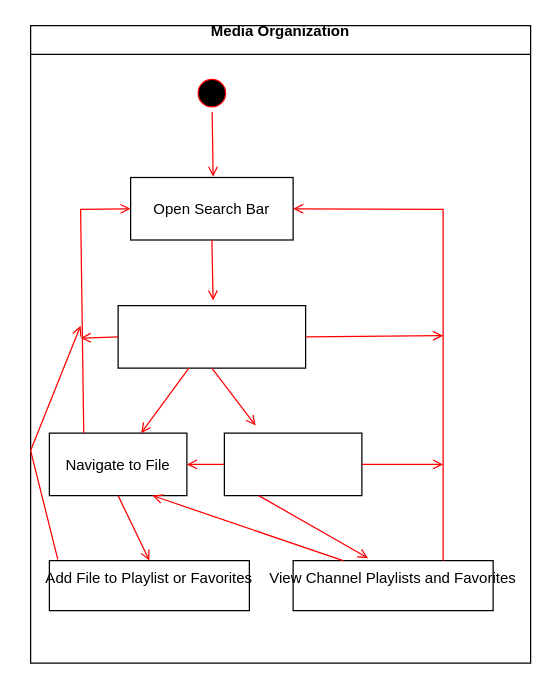
This 553x685 diagram has some shape labels left out. The centre of each missing label's shape, as x and y in pixels:
Navigate to Channel: pixel 292 464
Use Search Options to Filter: pixel 211 336
